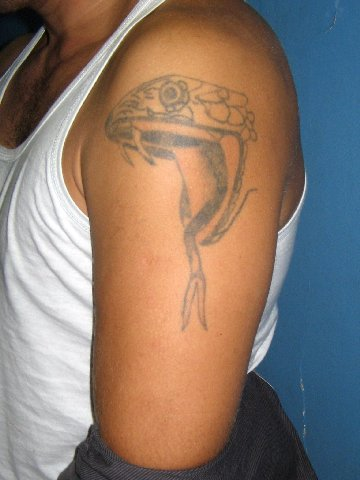tatu7_zmeya: (110, 71, 266, 320)
